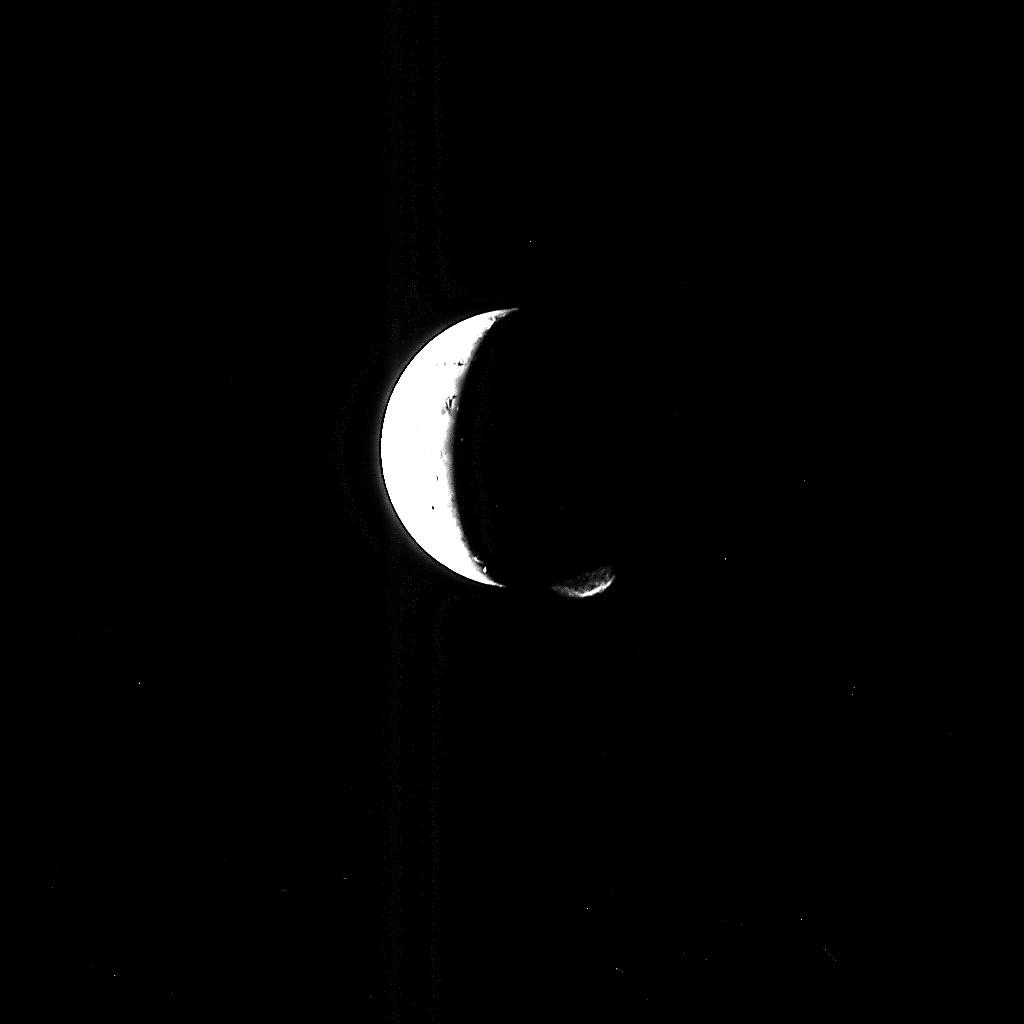plumes: (554, 569, 614, 601)
